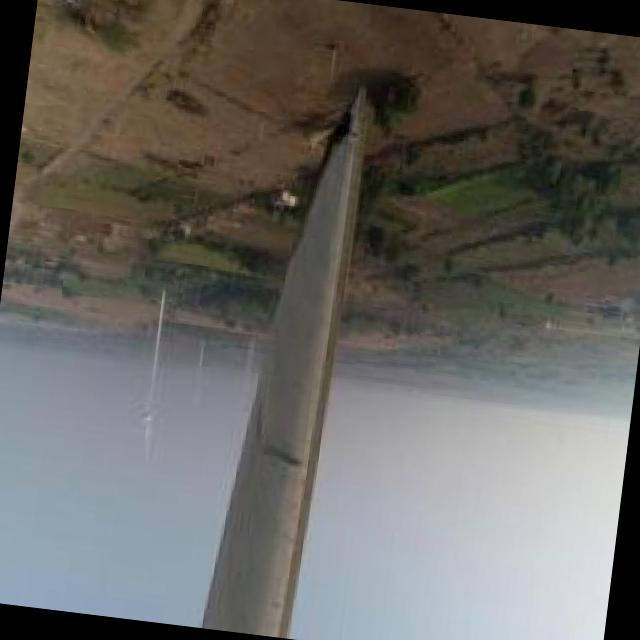Dirt: (231, 90, 364, 470)
Oil LEAKAGE: (293, 96, 358, 260)
